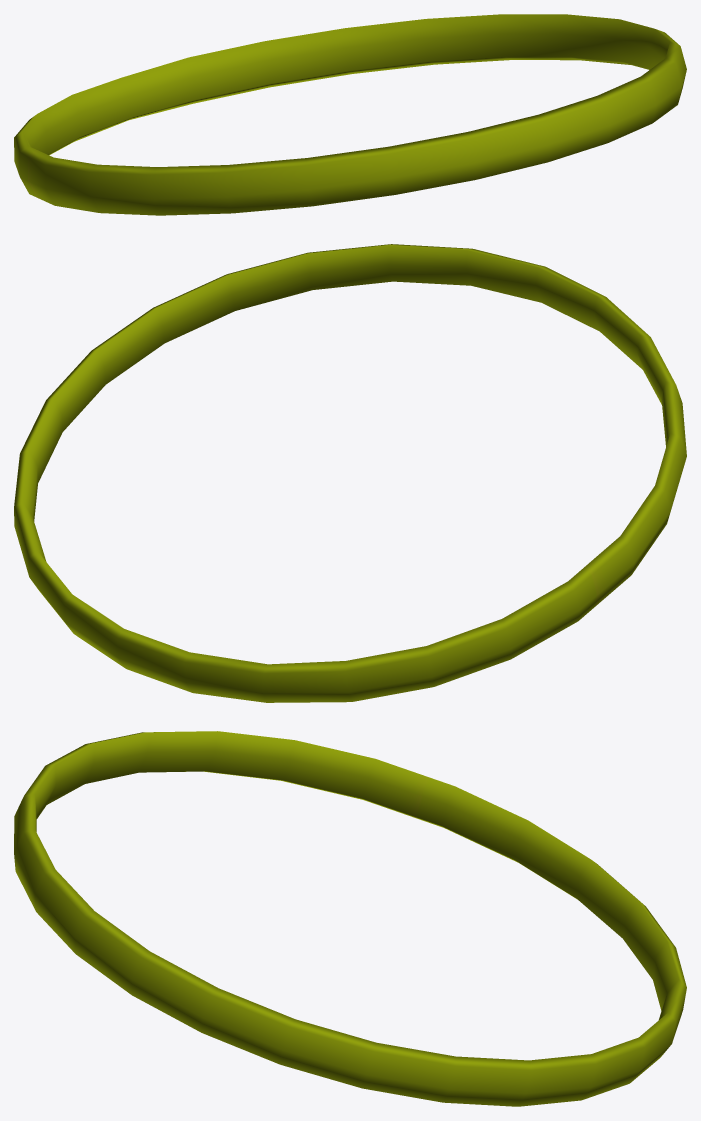
The model's file is Ear_06.fbx.
3 views of the same model, one above another, from view 1: azimuth 30°, elevation 25°; view 2: azimuth 150°, elevation 25°; view 3: azimuth 270°, elevation 25° (orthographic). The views are drawn at different scales.
Parts seen in each view (by area): view 1: polySurface1; view 2: polySurface1; view 3: polySurface1.
Part boxes in pixels (left/top/right/bottom): polySurface1: left=14, top=14, right=686, bottom=215; polySurface1: left=14, top=244, right=686, bottom=702; polySurface1: left=14, top=731, right=686, bottom=1106.
Size of the model in its own units: 162 by 54.44 by 156.
